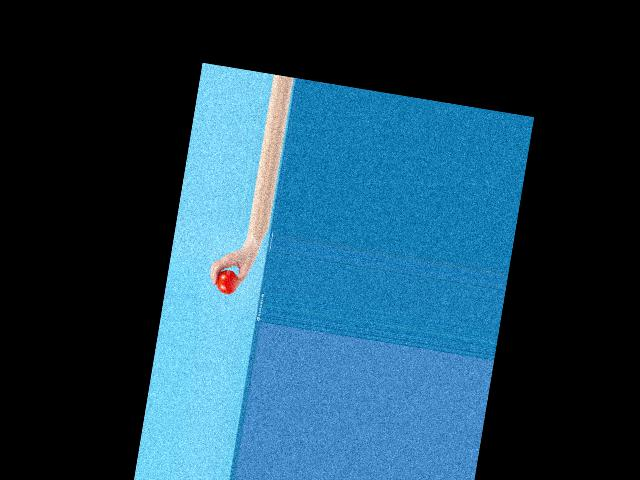tomato: (214, 268, 239, 295)
